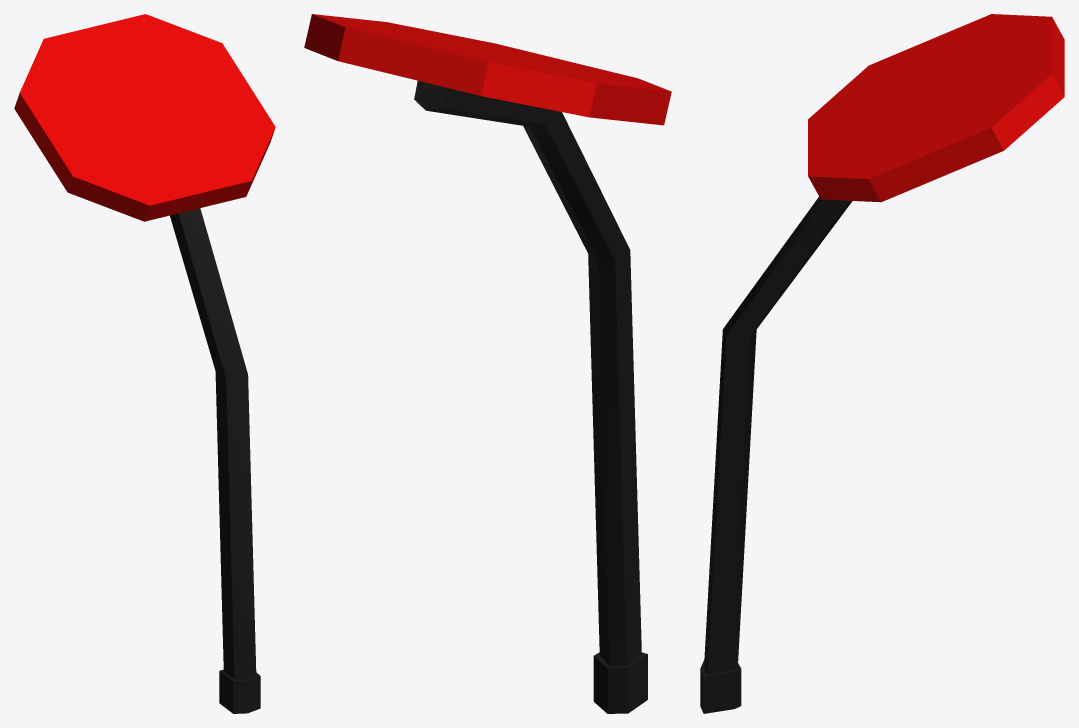
File: Señal.fbx
3 renders of one model, left to right at view 1: azimuth 30°, elevation 25°; view 2: azimuth 150°, elevation 25°; view 3: azimuth 270°, elevation 25°, orthographic. The views are drawn at different scales.
Visible parts, largest first — view 1: Cube; view 2: Cube; view 3: Cube.
Boxes of the visible parts, box(x1,y1,x2,y2) form: Cube: box(14, 14, 275, 713); Cube: box(304, 14, 671, 713); Cube: box(700, 14, 1064, 713).
Size of the model in its own units: 120 by 327 by 163.
